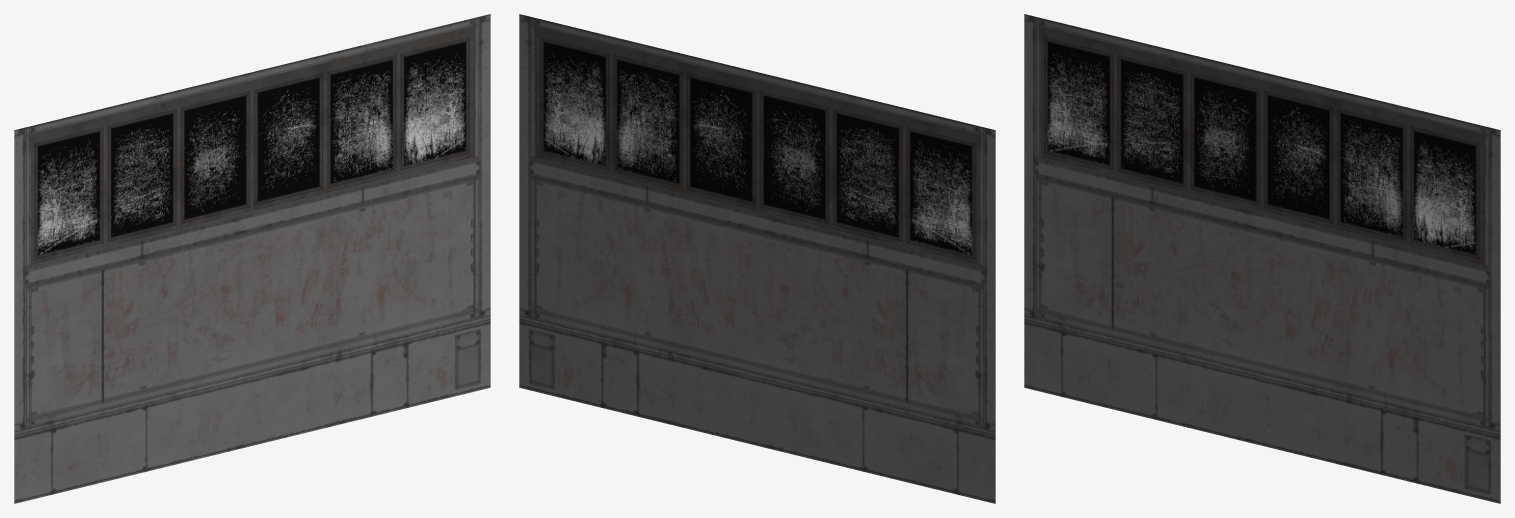
File: ARC0910212.fbx
3 views of the same model, side by side, from view 1: azimuth 30°, elevation 25°; view 2: azimuth 150°, elevation 25°; view 3: azimuth 330°, elevation 25° (orthographic).
Parts seen in each view (by area): view 1: smARC0910212; view 2: smARC0910212; view 3: smARC0910212.
Boxes of the visible parts, bbox=[...] form: smARC0910212: bbox=[14, 14, 490, 503]; smARC0910212: bbox=[519, 14, 995, 503]; smARC0910212: bbox=[1024, 14, 1500, 503].
Size of the model in its own units: 400 by 300 by 4.58e-05.
1 material, 1 textured.
